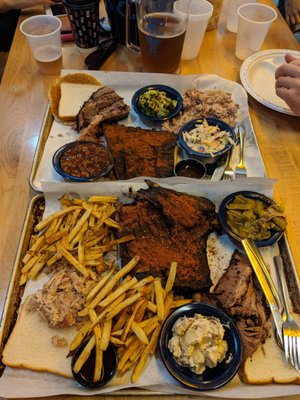burger: (233, 128, 248, 178)
pizza: (137, 0, 189, 74), (20, 14, 63, 76), (234, 3, 277, 61), (176, 0, 213, 61), (62, 0, 100, 50)
salad: (218, 191, 296, 376)
soup: (49, 72, 103, 123)
sushi: (157, 302, 243, 390), (239, 49, 300, 118), (173, 117, 238, 178), (130, 84, 183, 130)
